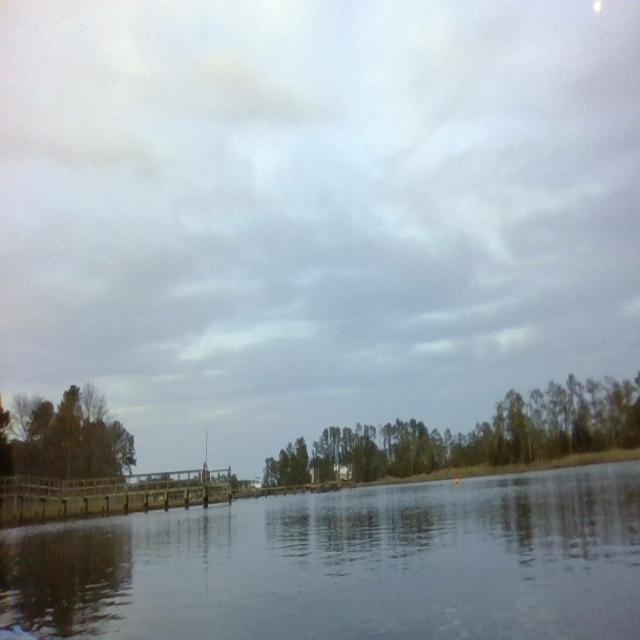Buoy: (454, 476, 461, 486)
